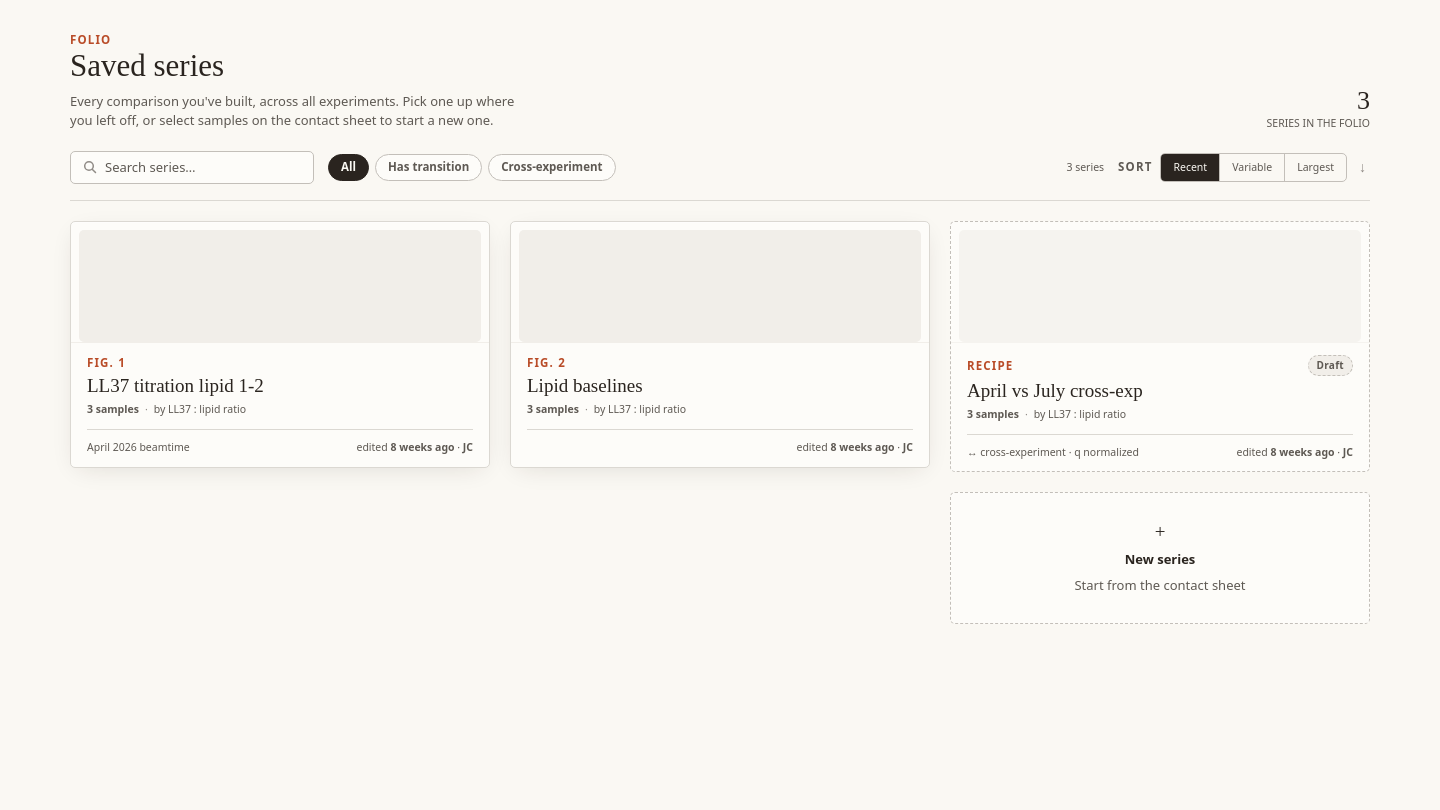
Test: SeriesFolioPage › the no-match state offers a one-click clear that shows the whole folio again
Type "xxxxxxxxxnotaseriesname" into the field at (203, 167), box [105,158,301,177]
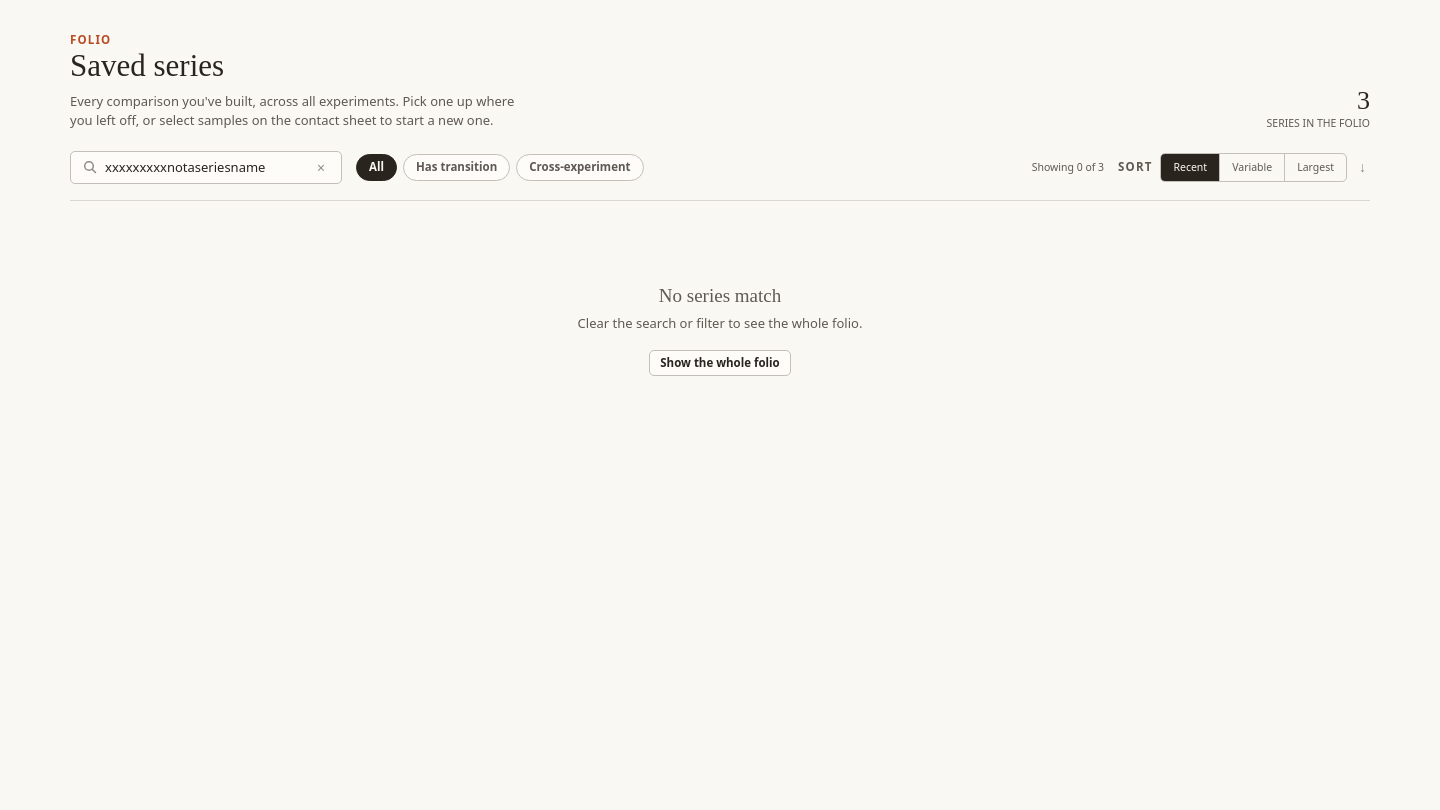
Click the button with test id "filter-chip" at (457, 167), box [403,154,510,180]
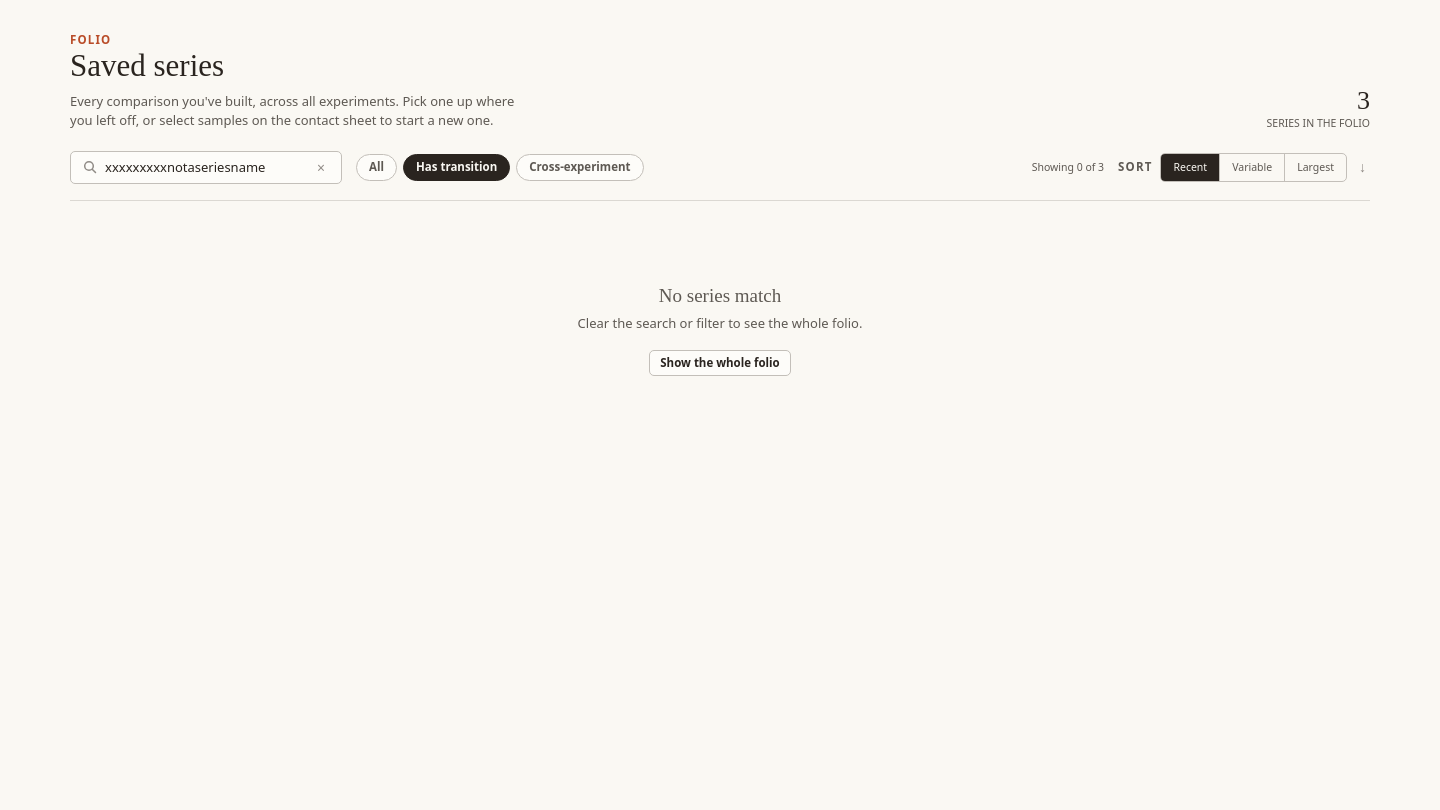
Note: Dirty the sort too: clearing must NOT touch it.
Click the button "Largest" at (1316, 167), box [1285,154,1346,181]
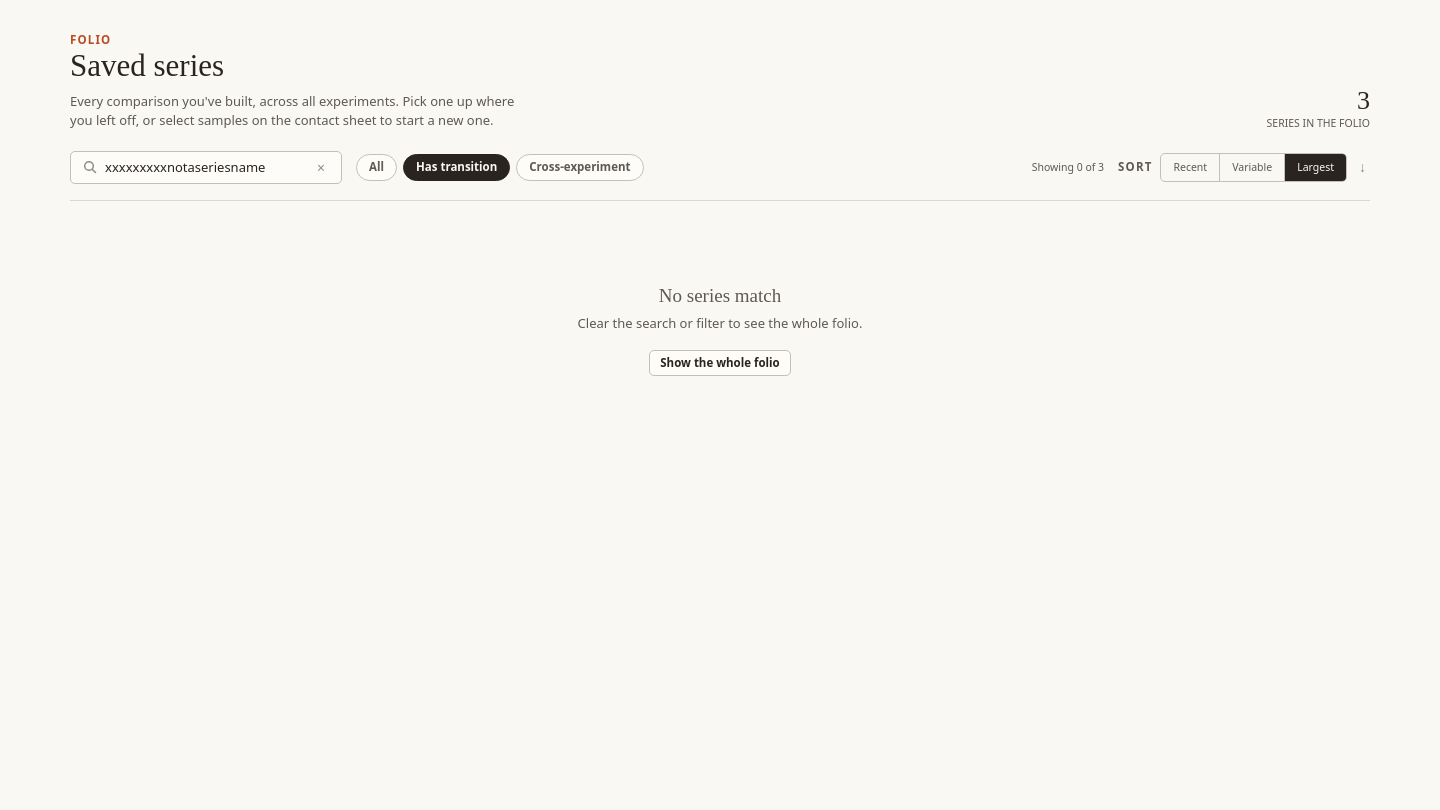
expect the heading "No series match" is shown: met, box [659,285,781,306]
Click the button "Show the whole folio" at (720, 363), box [649,350,791,376]
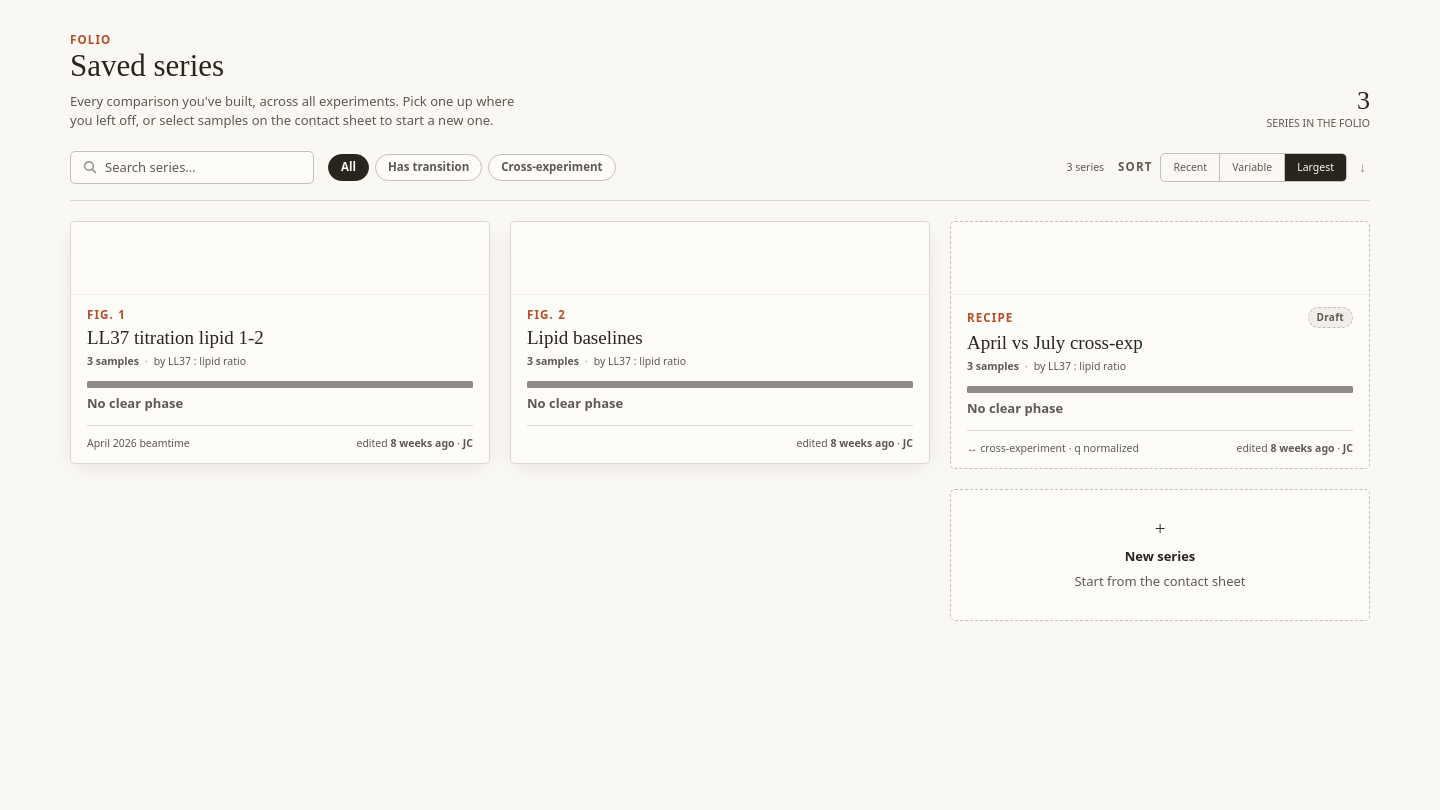
expect the number of elements with test id "series-card" is 3: met, box [70,221,490,464]; [510,221,930,464]; [950,221,1370,469]
expect the field is empty: met, box [105,158,301,177]
